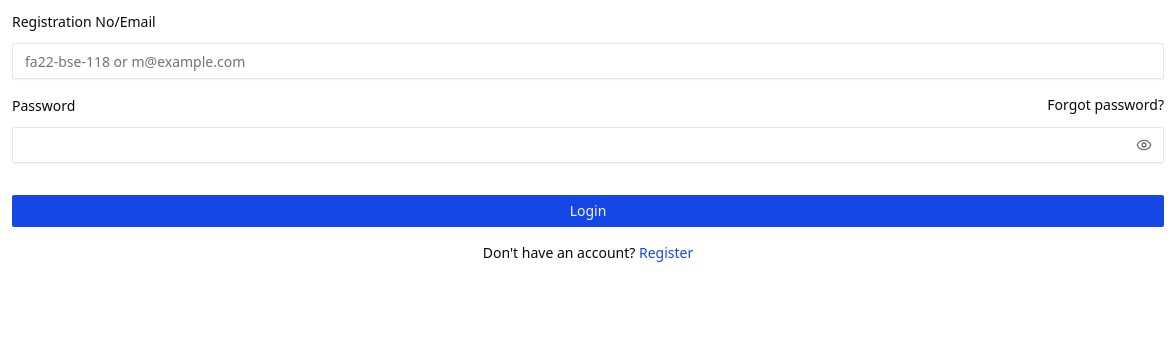
Scenario: LoginForm › shows validation errors for empty fields on submit
Click the button "Login" at x=588, y=211, box [12,195,1164,227]
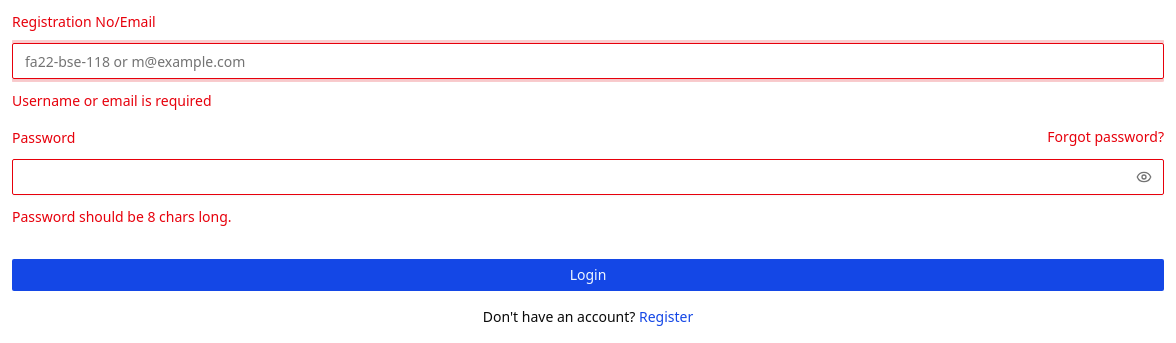
Result: the text "Username or email is required" is shown at [12,91,212,110]
Result: the text "Password should be 8 chars long." is shown at [12,207,232,226]
